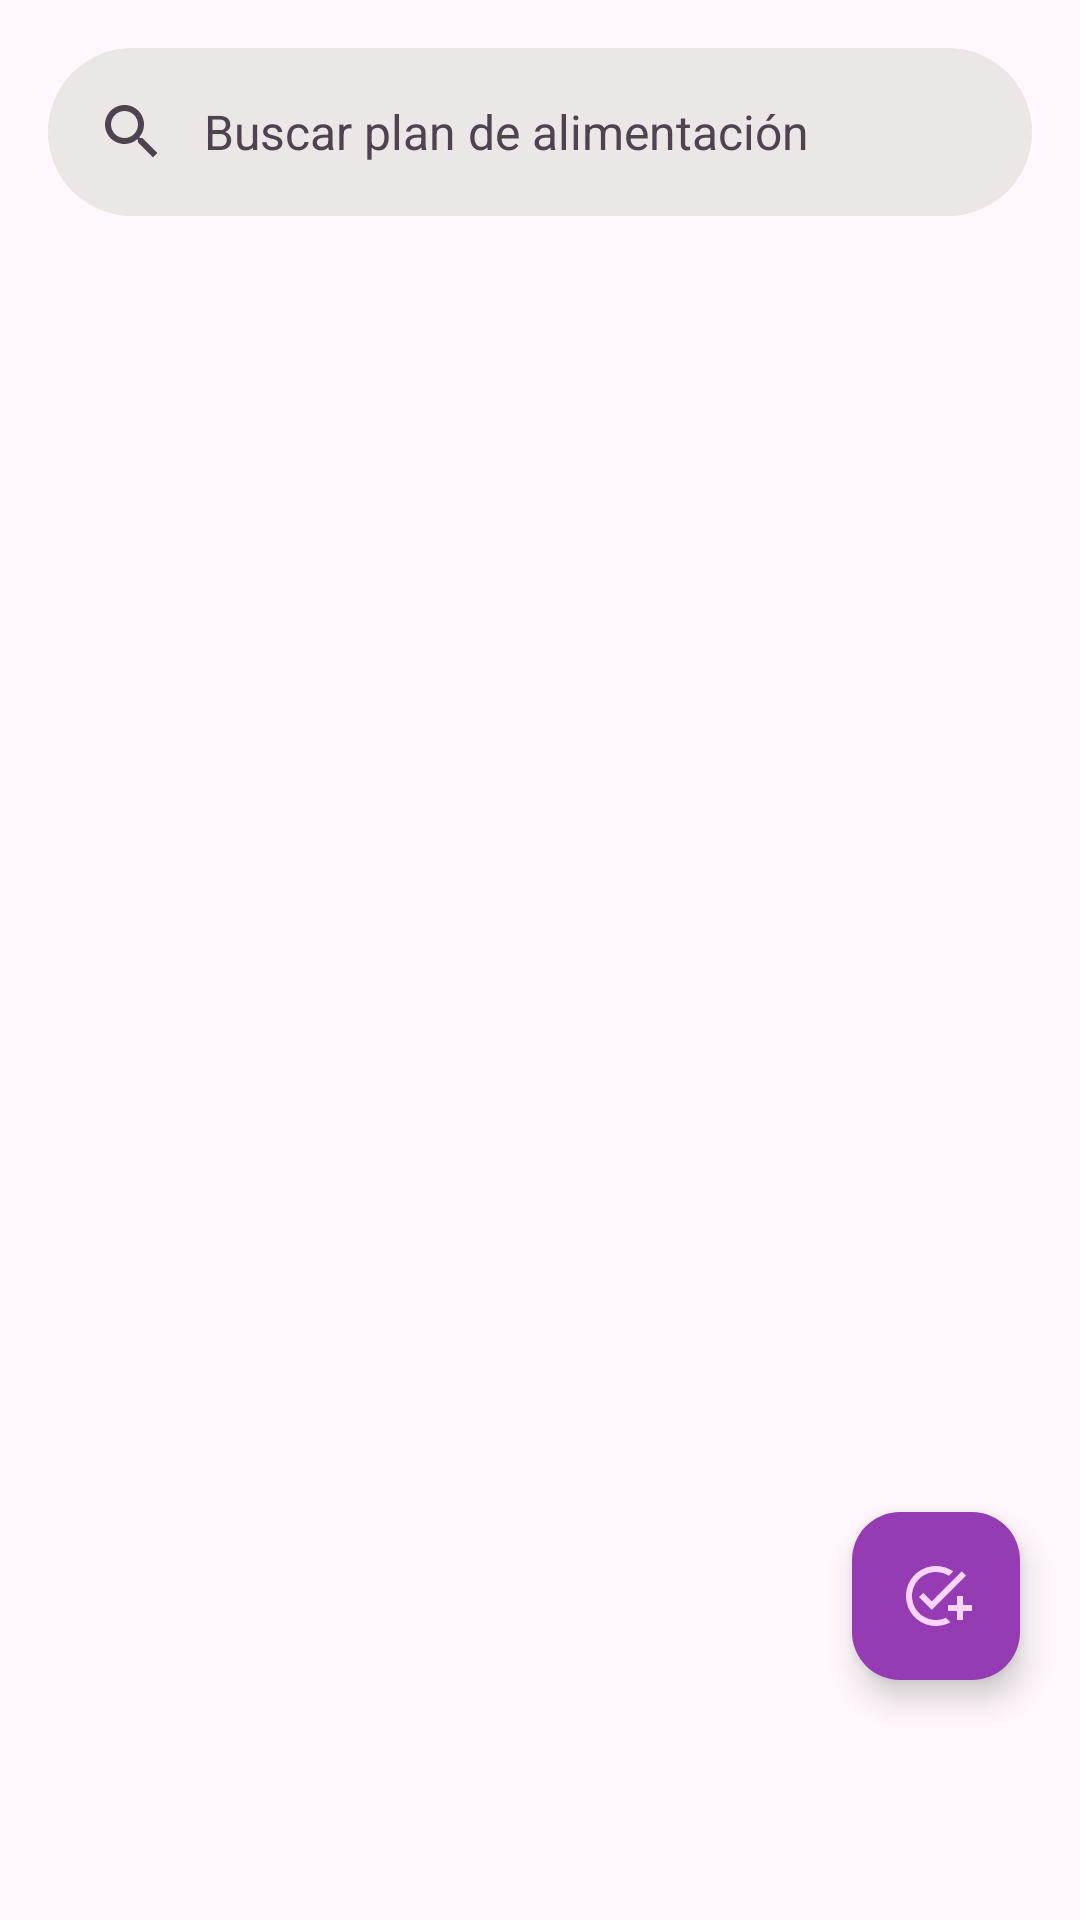

Locate icon controls on the screen. Image size 1080×1920, boxes as Rect(x1, y1, x2, y2).
Agregar plan de alimentación: Rect(852, 1512, 1020, 1680)
